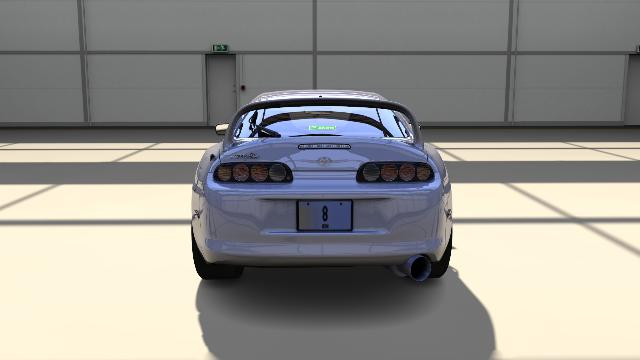License Plate: (297, 202, 351, 232)
